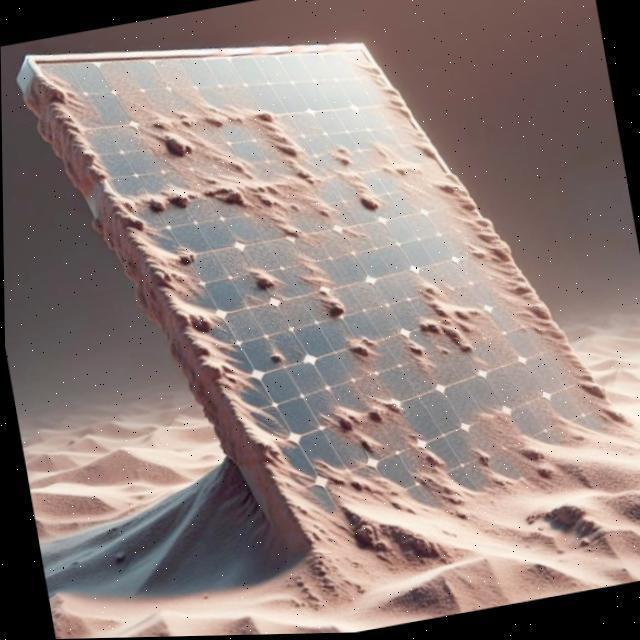Surface Contaminant: (316, 49, 625, 457), (273, 243, 640, 564), (123, 192, 366, 583), (65, 41, 422, 274), (354, 245, 524, 423), (315, 136, 391, 228), (283, 243, 355, 327), (33, 56, 105, 139), (226, 254, 299, 328), (259, 341, 291, 370)
